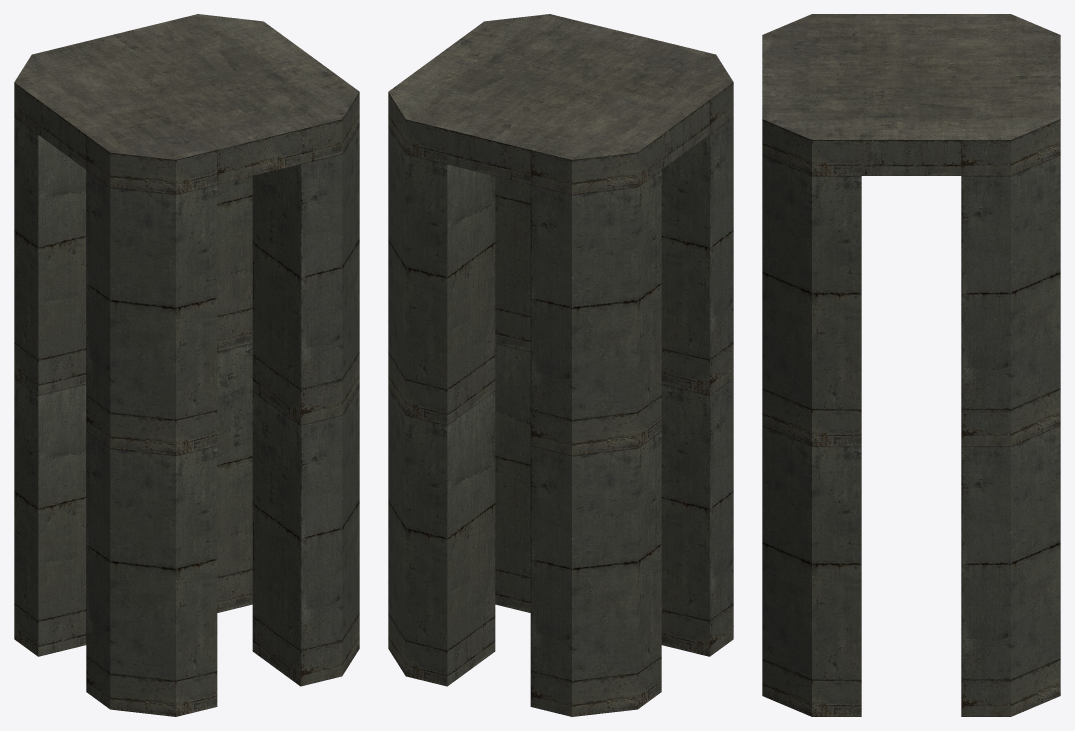
Rendered from platform_mx_1.obj.
The picture shows the model from 3 angles, left to right: view 1: azimuth 30°, elevation 25°; view 2: azimuth 150°, elevation 25°; view 3: azimuth 270°, elevation 25°; orthographic projection. The views are drawn at different scales.
Parts seen in each view (by area): view 1: platform_mx_1; view 2: platform_mx_1; view 3: platform_mx_1.
Boxes of the visible parts, <box> form: platform_mx_1: <box>14,14,359,716</box>; platform_mx_1: <box>388,14,733,716</box>; platform_mx_1: <box>762,14,1060,716</box>.
Size of the model in its own units: 3 by 6.4 by 3.
